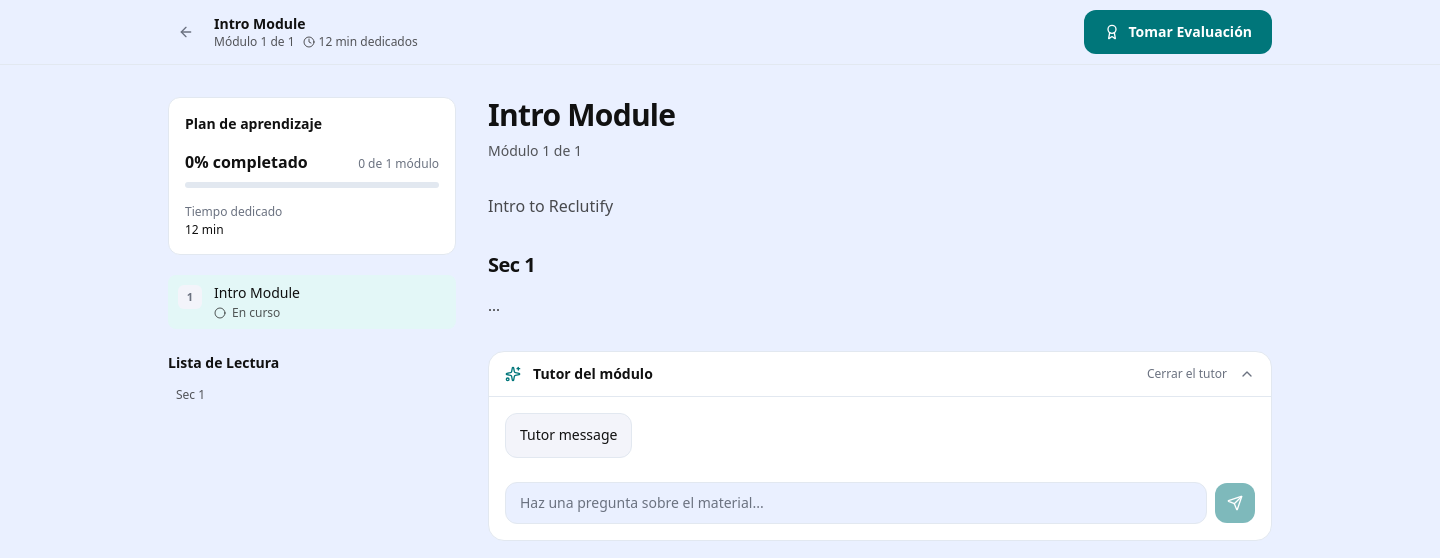
TrainingModulePage Component Integrity › shows approved message on evaluation passed: true and dynamic passingScore
Click the button "Tomar Evaluación".
click(1178, 32)  # box [1084,10,1272,54]
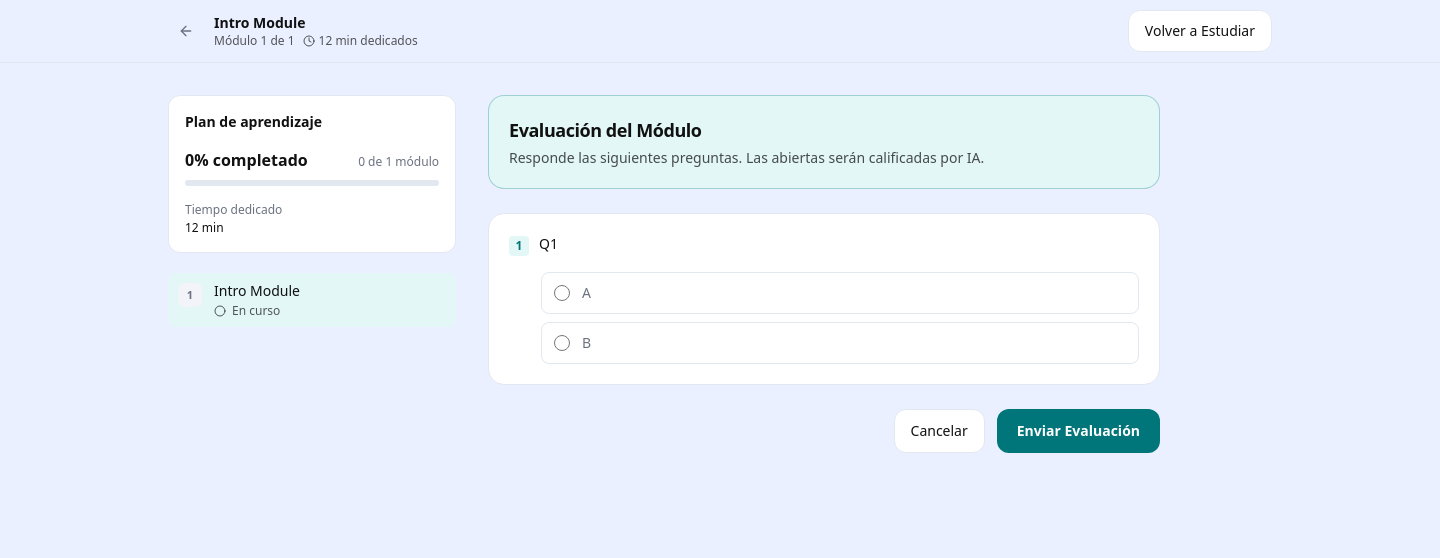
Click the radio button labelled "A".
click(562, 293)  # box [554,285,570,301]
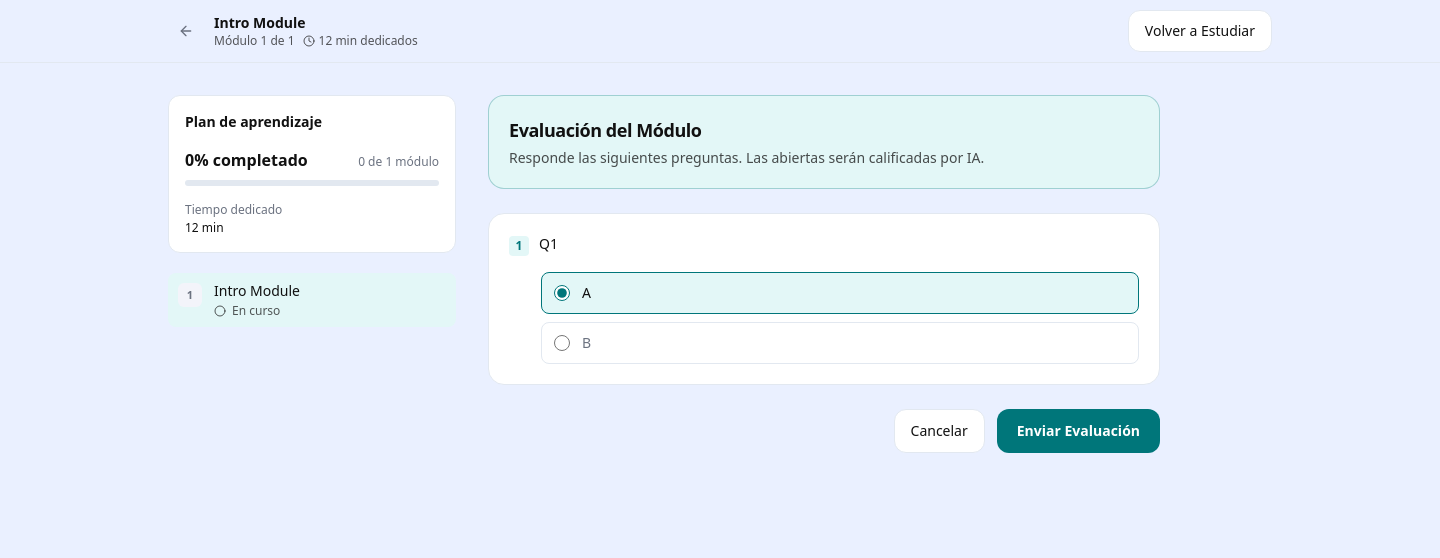
Click the button "Enviar Evaluación".
click(1078, 431)  # box [997,409,1160,453]
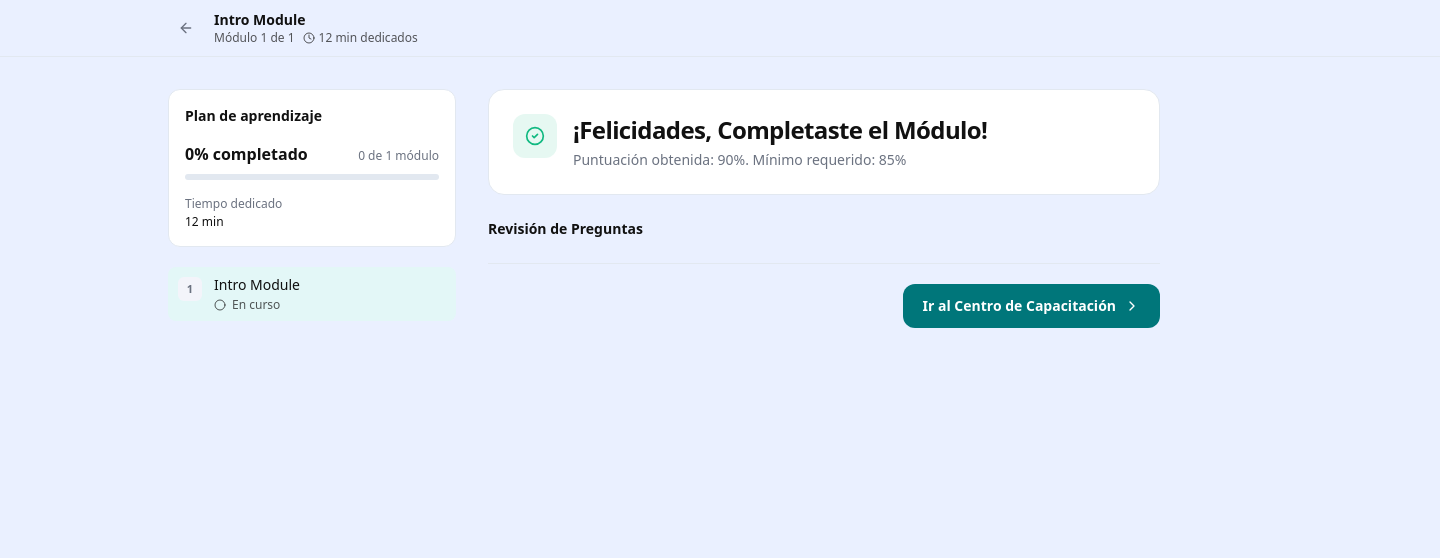
Check: the heading "¡Felicidades, Completaste el Módulo!" is shown, box [573,114,987,146]
Check: the text "Puntuación obtenida: 90%. Mínimo requerido: 85%" is shown, box [573,150,906,169]
